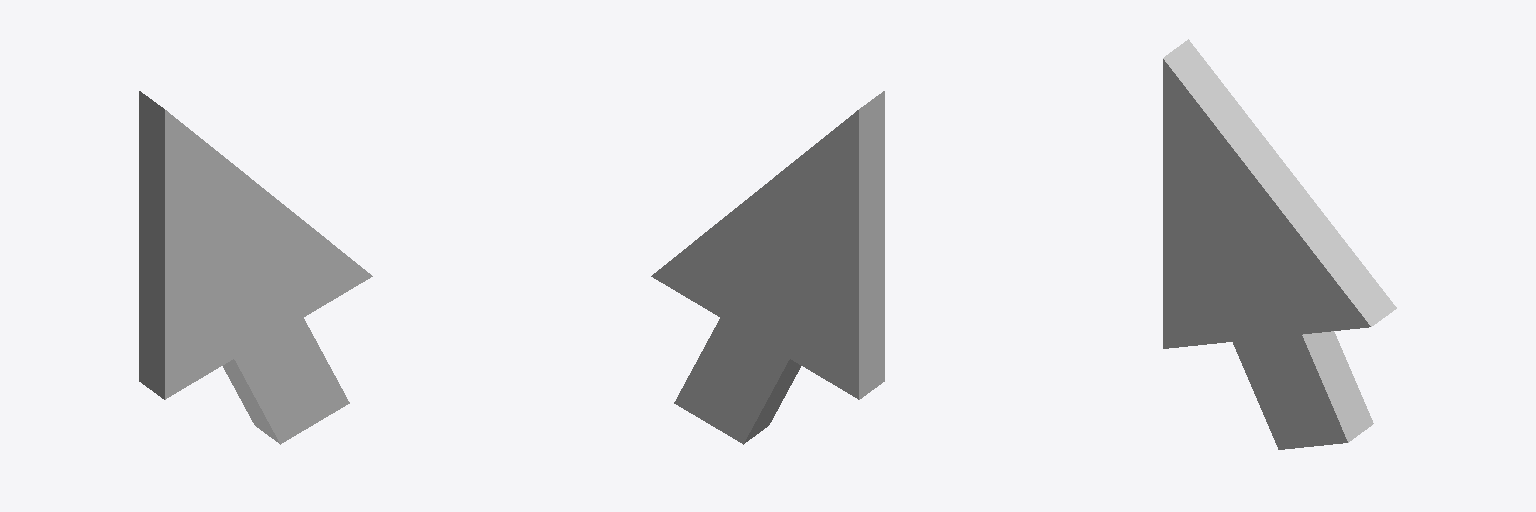
The model's file is cursor_arrow.obj.
The picture shows the model from 3 angles: view 1: azimuth 30°, elevation 25°; view 2: azimuth 150°, elevation 25°; view 3: azimuth 330°, elevation 25°; orthographic projection.
Parts seen in each view (by area): view 1: textureBakeSet3 Mesh; view 2: textureBakeSet3 Mesh; view 3: textureBakeSet3 Mesh.
Part boxes in pixels (bbox=[...]): textureBakeSet3 Mesh: bbox=[139, 91, 372, 444]; textureBakeSet3 Mesh: bbox=[651, 91, 884, 444]; textureBakeSet3 Mesh: bbox=[1163, 39, 1396, 449].
Bounding box in the file's own units: 0.5054 × 0.8423 × 0.1082.